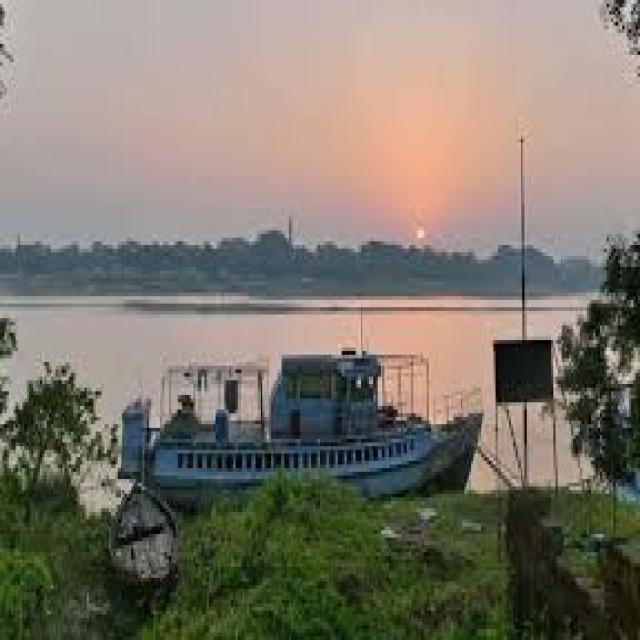fishing boat: (110, 334, 489, 504)
